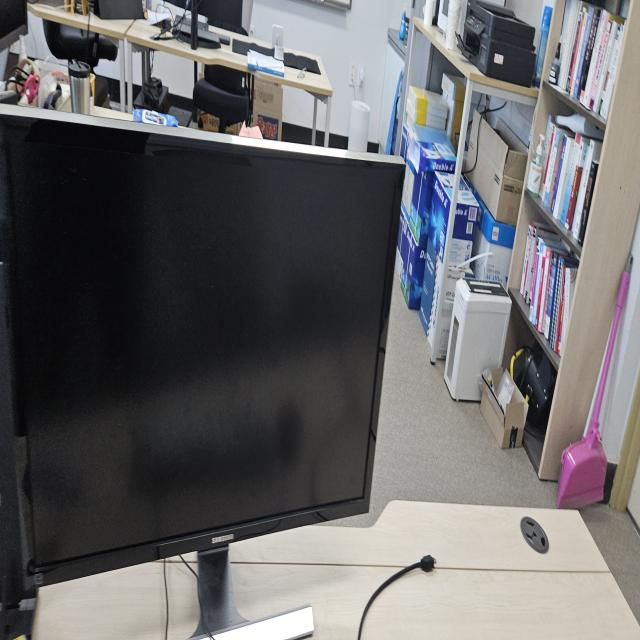Monitor: (2, 97, 407, 630)
